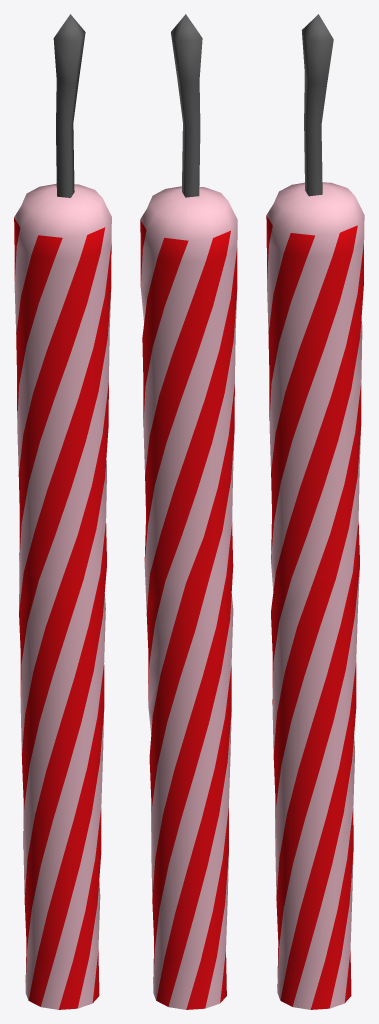
Rendered from birthday_candle_007.glb.
The picture shows the model from 3 angles, left to right: view 1: azimuth 30°, elevation 25°; view 2: azimuth 150°, elevation 25°; view 3: azimuth 330°, elevation 25°; orthographic projection.
Visible parts, largest first — view 1: birthday_candle_007; view 2: birthday_candle_007; view 3: birthday_candle_007.
Boxes of the visible parts, box(x1,y1,x2,y2) form: birthday_candle_007: box(14, 14, 111, 1009); birthday_candle_007: box(140, 14, 237, 1009); birthday_candle_007: box(266, 14, 364, 1009).
Size of the model in its own units: 0.9066 by 10.02 by 0.9065.
1 material, 1 textured.
